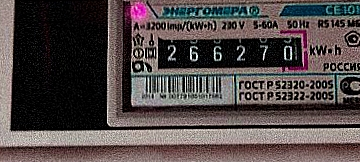0: (280, 42, 292, 62)
2: (163, 41, 178, 62), (233, 42, 246, 63)
6: (186, 43, 199, 63), (210, 43, 223, 62)
7: (256, 42, 269, 61)
screen: (143, 22, 317, 81)
